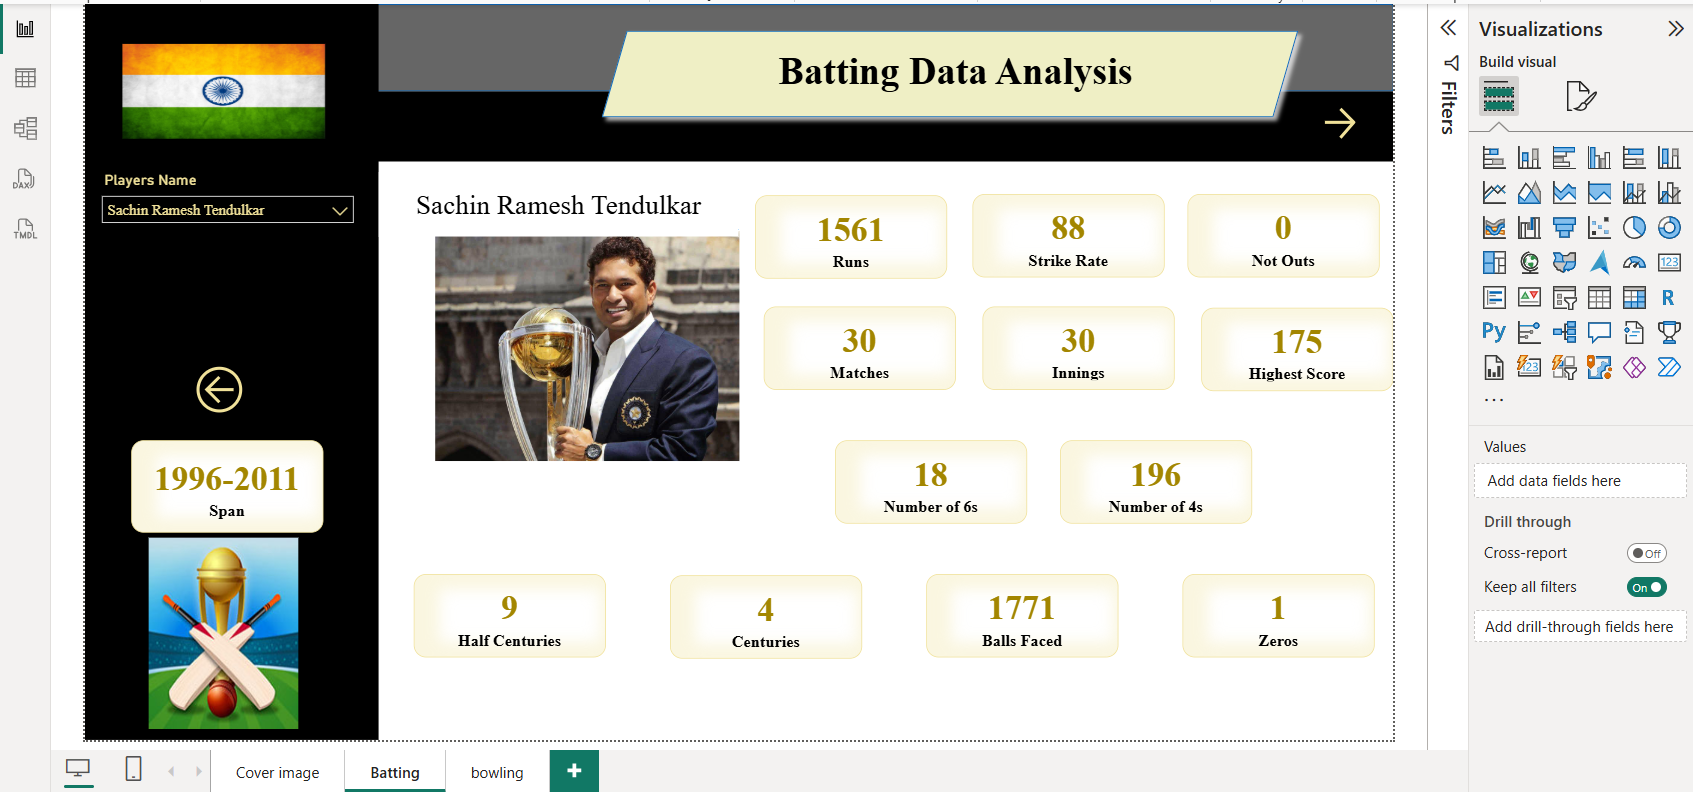

What the dashboard file says about the page in this screenshot:
{"tool":"powerbi","page":{"name":"Batting ","canvas":[1280,720],"ordinal":1},"visuals":[{"type":"textbox","box":[0,145.5,287.4,574.7],"z":0},{"type":"tableEx","fields":{"Values":["battingimageurl.imageurlbatting"]},"box":[331.4,187.1,324.1,344.8],"z":1000},{"type":"card","fields":{"Values":["Min(Nametable_batting.Players Name)"]},"box":[287.4,165.1,352.2,62.4],"z":2000},{"type":"card","fields":{"Values":["Min(Cricket Data batting.Span)"]},"box":[45.2,426.8,188.3,90.5],"z":3000},{"type":"shape","box":[0,0,1280.3,85.6],"z":4000},{"type":"shape","box":[0,0,287.4,94.2],"z":5000},{"type":"shape","box":[0,85.6,1280.3,68.5],"z":6000},{"type":"shape","box":[496.5,17.1,699.5,102.7],"z":7000},{"type":"textbox","box":[576,39.1,551.5,57.5],"z":8000},{"type":"image","box":[31.8,34.2,207.9,102.7],"z":9000},{"type":"textbox","box":[697,509,188,211],"z":10000},{"type":"actionButton","box":[102.7,348.5,61.1,57.5],"z":11000},{"type":"actionButton","box":[1206.9,96.6,59.9,40.4],"z":12000},{"type":"card","fields":{"Values":["Sum(Cricket Data batting.NO)"]},"box":[1078.5,185.9,188.3,81.9],"z":13000},{"type":"card","fields":{"Values":["Sum(Cricket Data batting.Inns)"]},"box":[878,295.9,188.3,81.9],"z":14000},{"type":"card","fields":{"Values":["Min(Cricket Data batting.Runs)"]},"box":[655.4,187.1,188.3,81.9],"z":15000},{"type":"card","fields":{"Values":["Sum(Cricket Data batting.Mat)"]},"box":[664,295.9,188.3,81.9],"z":16000},{"type":"card","fields":{"Values":["Sum(Cricket Data batting.SR)"]},"box":[868.2,185.9,188.3,81.9],"z":17000},{"type":"image","box":[57.5,517.3,156.5,196.9],"z":18000},{"type":"card","fields":{"Values":["Min(Cricket Data batting.HS)"]},"box":[1091.7,297.1,188.3,81.9],"z":19000},{"type":"card","fields":{"Values":["Sum(Cricket Data batting.BF)"]},"box":[823,557.6,188.3,81.9],"z":20000},{"type":"card","fields":{"Values":["Sum(Cricket Data batting.4s)"]},"box":[953.8,426.8,188.3,81.9],"z":21000},{"type":"card","fields":{"Values":["Sum(Cricket Data batting.6s)"]},"box":[733.7,426.8,188.3,81.9],"z":22000},{"type":"card","fields":{"Values":["Sum(Cricket Data batting.50)"]},"box":[321.6,557.6,188.3,81.9],"z":23000},{"type":"card","fields":{"Values":["Sum(Cricket Data batting.100)"]},"box":[572.3,558.8,188.3,81.9],"z":24000},{"type":"card","fields":{"Values":["Sum(Cricket Data batting.0)"]},"box":[1073.6,557.6,188.3,81.9],"z":25000},{"type":"slicer","fields":{"Values":["Nametable_batting.Players Name"]},"box":[6.1,159,266.6,77],"z":26000}]}

Visuals, with their boxes on the page's 1280x720 design canvas (x1, y1, x2, y2). These are canvas units, not pixel positions in the 1693x792 screenshot, which may show the page scaled, cropped or inside an application window:
textbox: (left=0, top=146, right=287, bottom=720)
tableEx - battingimageurl.imageurlbatting: (left=331, top=187, right=656, bottom=532)
card - Min(Nametable_batting.Players Name): (left=287, top=165, right=640, bottom=228)
card - Min(Cricket Data batting.Span): (left=45, top=427, right=234, bottom=517)
shape: (left=0, top=0, right=1280, bottom=86)
shape: (left=0, top=0, right=287, bottom=94)
shape: (left=0, top=86, right=1280, bottom=154)
shape: (left=496, top=17, right=1196, bottom=120)
textbox: (left=576, top=39, right=1128, bottom=97)
image: (left=32, top=34, right=240, bottom=137)
textbox: (left=697, top=509, right=885, bottom=720)
actionButton: (left=103, top=348, right=164, bottom=406)
actionButton: (left=1207, top=97, right=1267, bottom=137)
card - Sum(Cricket Data batting.NO): (left=1078, top=186, right=1267, bottom=268)
card - Sum(Cricket Data batting.Inns): (left=878, top=296, right=1066, bottom=378)
card - Min(Cricket Data batting.Runs): (left=655, top=187, right=844, bottom=269)
card - Sum(Cricket Data batting.Mat): (left=664, top=296, right=852, bottom=378)
card - Sum(Cricket Data batting.SR): (left=868, top=186, right=1056, bottom=268)
image: (left=58, top=517, right=214, bottom=714)
card - Min(Cricket Data batting.HS): (left=1092, top=297, right=1280, bottom=379)
card - Sum(Cricket Data batting.BF): (left=823, top=558, right=1011, bottom=640)
card - Sum(Cricket Data batting.4s): (left=954, top=427, right=1142, bottom=509)
card - Sum(Cricket Data batting.6s): (left=734, top=427, right=922, bottom=509)
card - Sum(Cricket Data batting.50): (left=322, top=558, right=510, bottom=640)
card - Sum(Cricket Data batting.100): (left=572, top=559, right=761, bottom=641)
card - Sum(Cricket Data batting.0): (left=1074, top=558, right=1262, bottom=640)
slicer - Nametable_batting.Players Name: (left=6, top=159, right=273, bottom=236)
